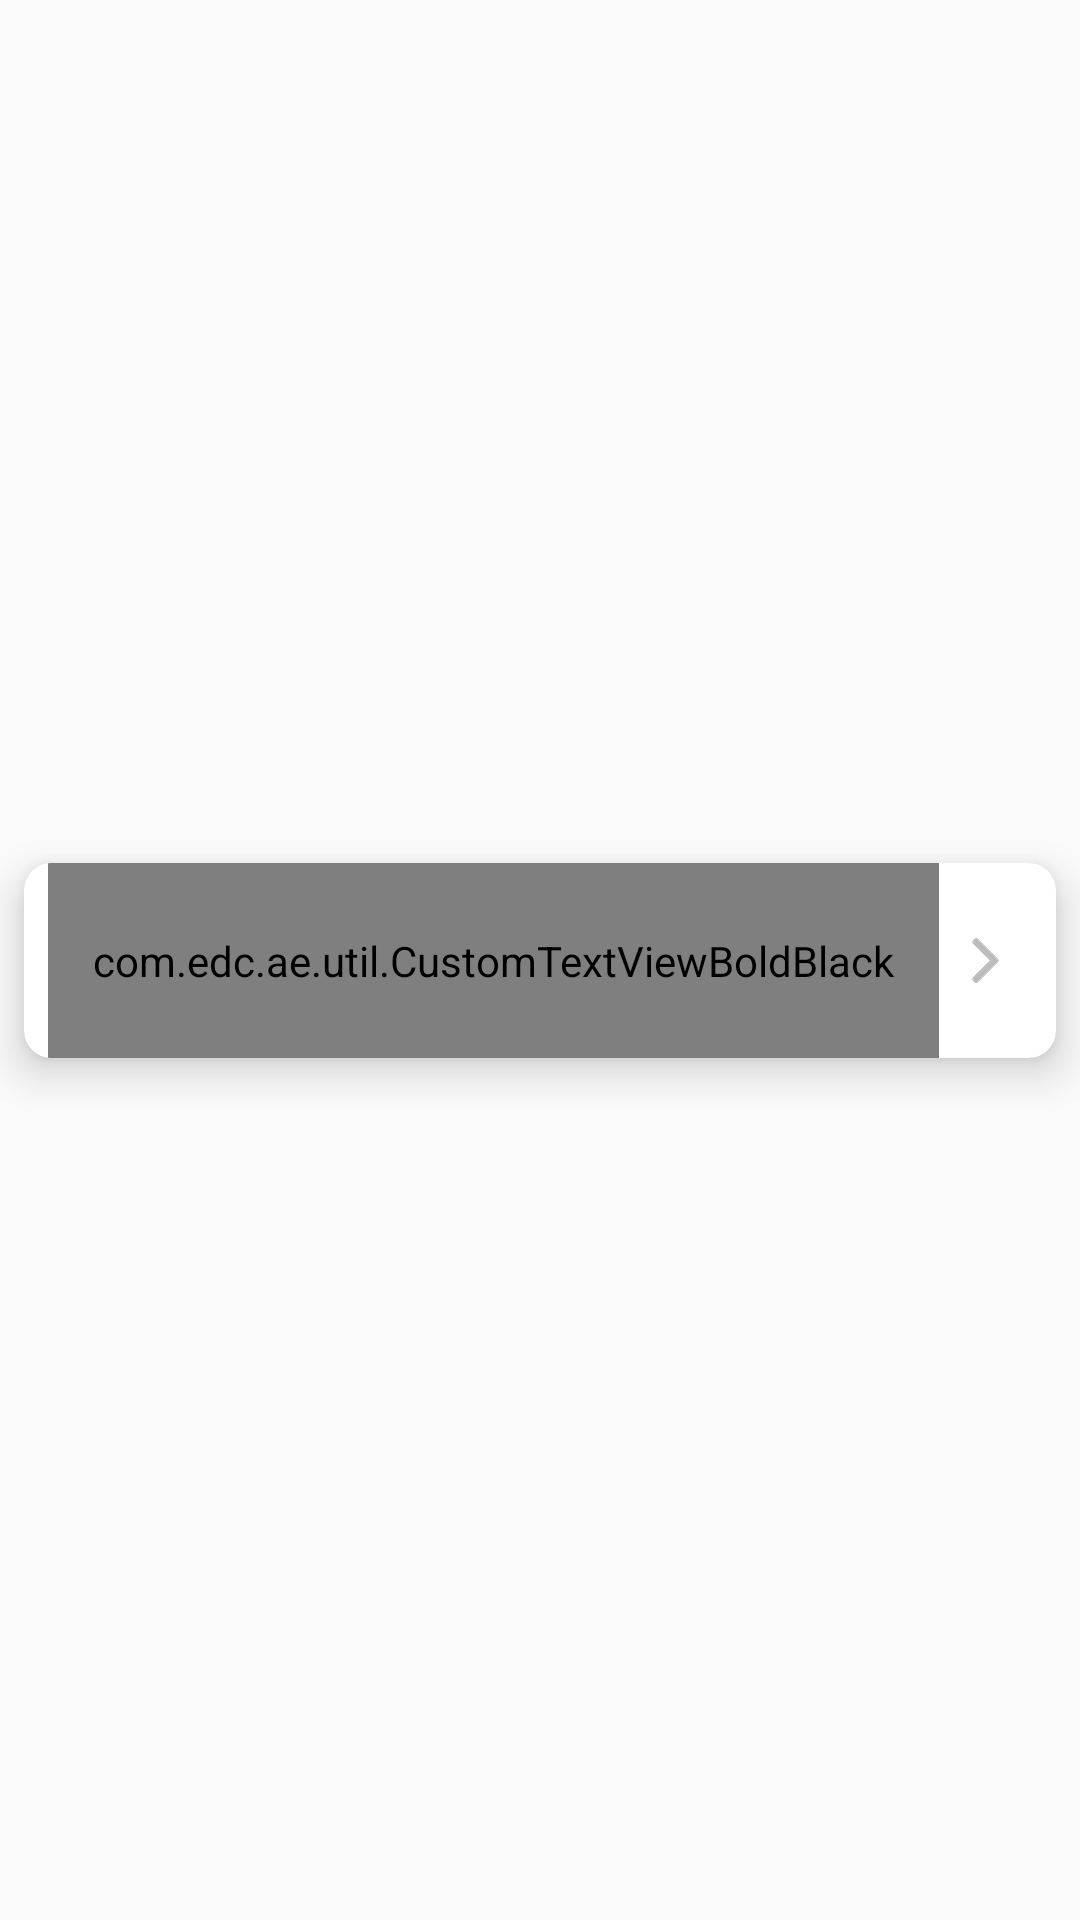

Where icons sit on this 1080w x 1920h app screen, as (x1, y1, x2, y2):
right arrow: (972, 938, 999, 983)
